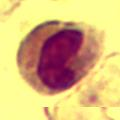monocyte: (13, 18, 109, 96)
